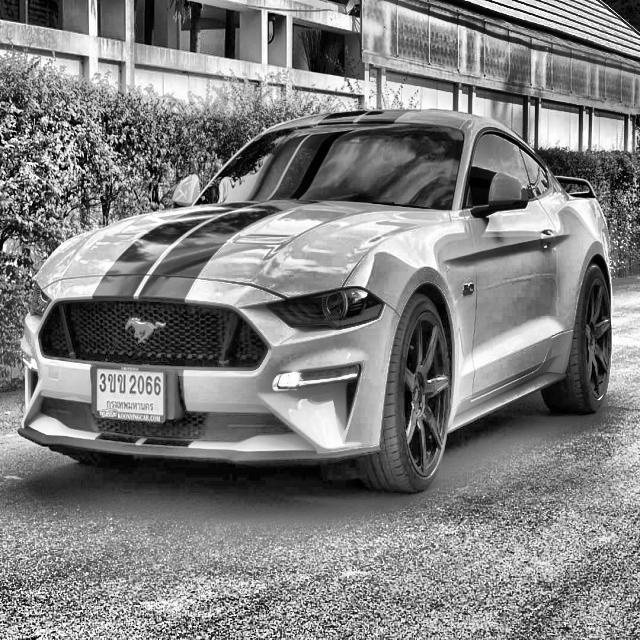license-plate: (92, 362, 172, 428)
